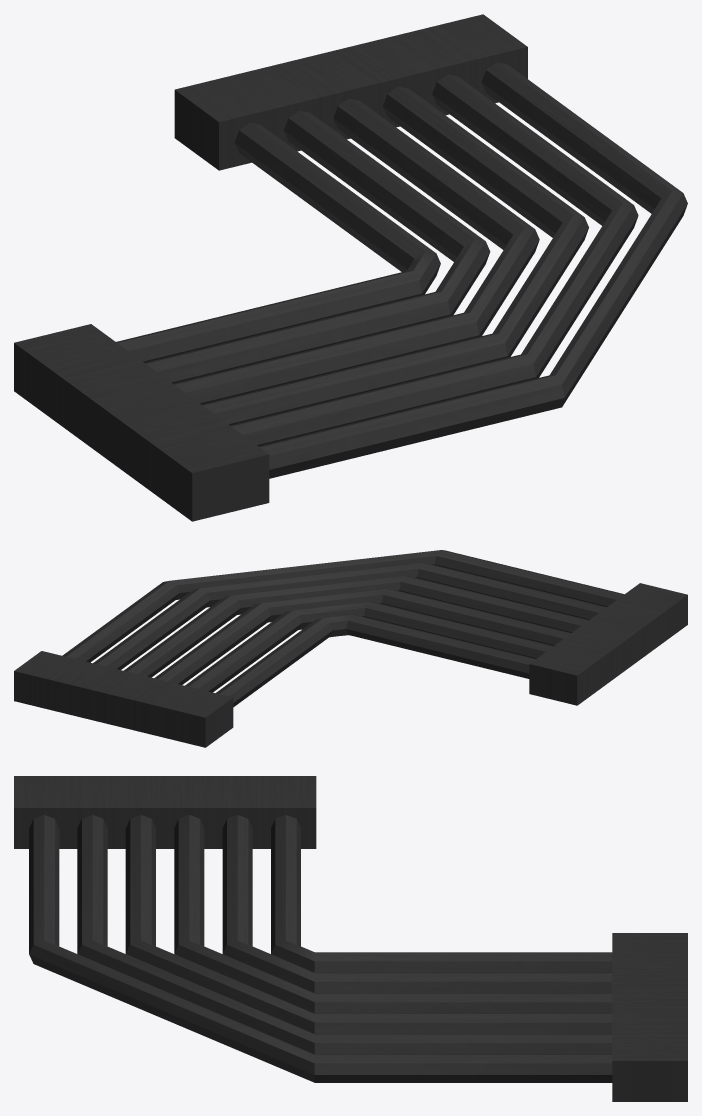
Rendered from Wires_Bend_Side_v2.fbx.
3 renders of one model, top to bottom at view 1: azimuth 30°, elevation 25°; view 2: azimuth 150°, elevation 25°; view 3: azimuth 270°, elevation 25°, orthographic. The views are drawn at different scales.
Visible parts, largest first — view 1: WiresBendSide; view 2: WiresBendSide; view 3: WiresBendSide.
Boxes of the visible parts, x1=… form: WiresBendSide: x1=14, y1=14, x2=687, y2=521; WiresBendSide: x1=14, y1=550, x2=687, y2=747; WiresBendSide: x1=14, y1=776, x2=687, y2=1101.
Size of the model in its own units: 44.6 by 3 by 44.6.
